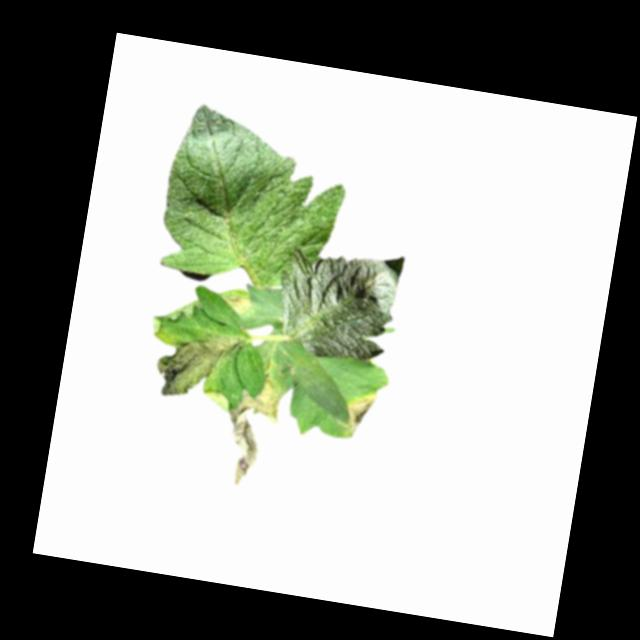Late_blight: (212, 369, 286, 494), (142, 320, 246, 407), (338, 388, 379, 444), (218, 290, 254, 318)
healthy: (152, 98, 356, 297), (270, 238, 406, 367)
